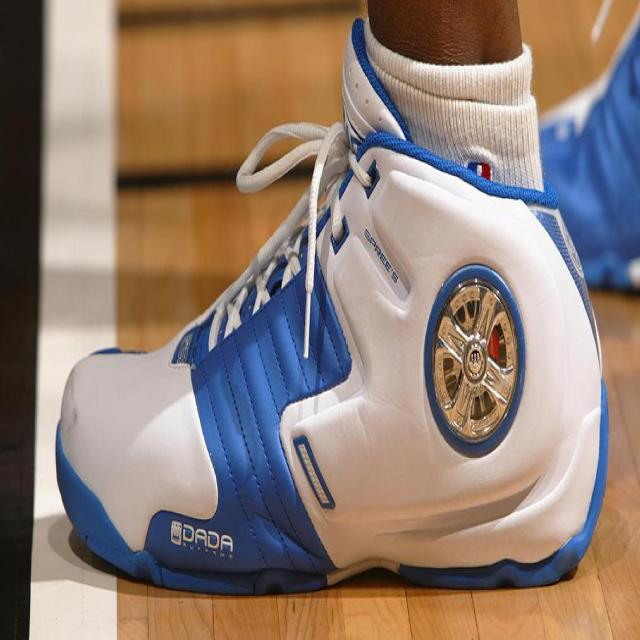shoe: (48, 6, 614, 616)
